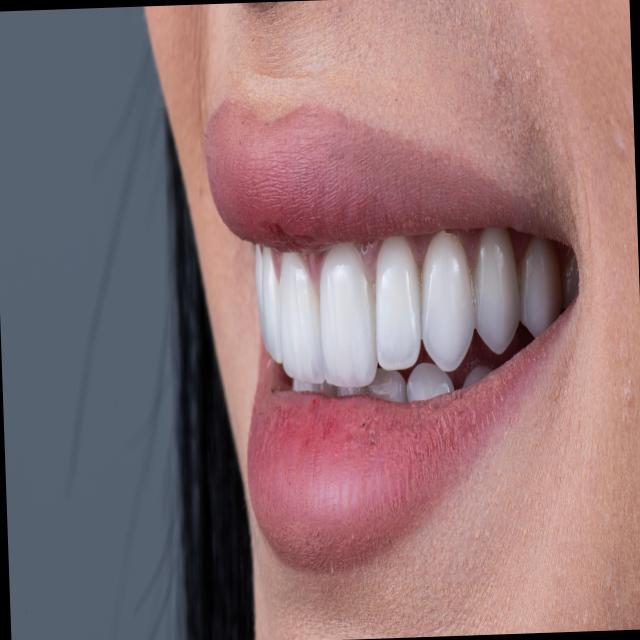Tooth: (320, 240, 378, 388), (420, 228, 474, 371), (278, 252, 326, 385), (374, 236, 421, 370), (471, 227, 520, 354), (262, 246, 281, 363), (406, 363, 454, 402), (366, 367, 407, 402), (462, 366, 493, 387)
